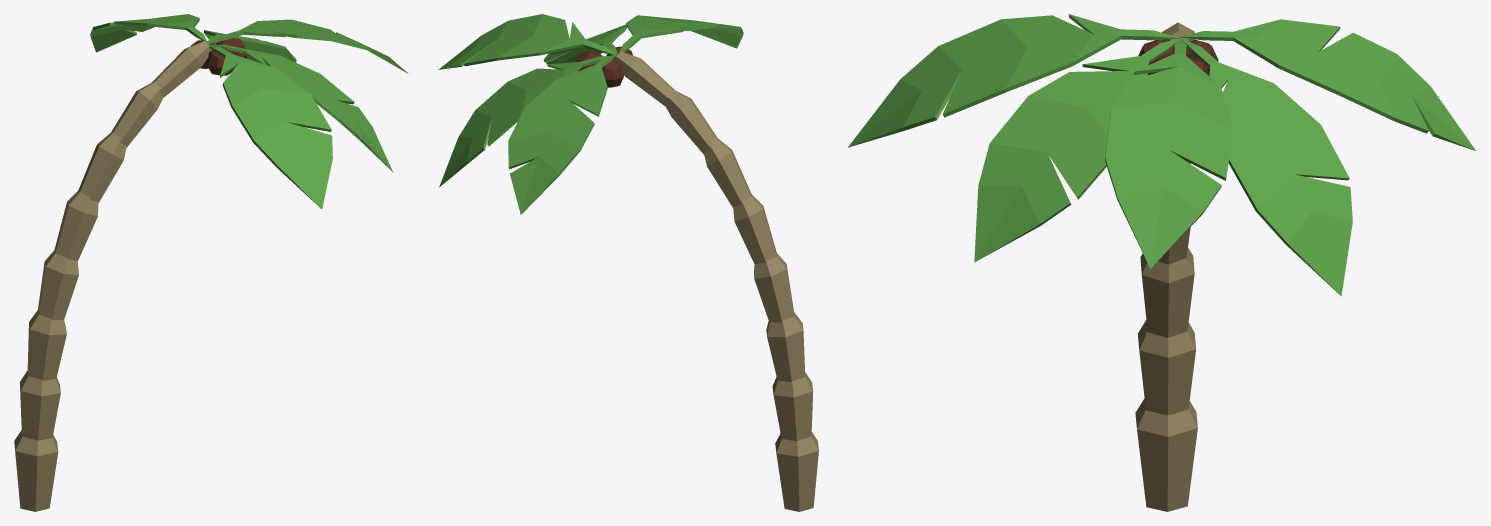
Rendered from Palm3.fbx.
3 views of the same model, side by side, from view 1: azimuth 30°, elevation 25°; view 2: azimuth 150°, elevation 25°; view 3: azimuth 270°, elevation 25° (orthographic). The views are drawn at different scales.
Parts seen in each view (by area): view 1: pCylinder11, pPlane1, pPlane3, pPlane4, pPlane2, pPlane5; view 2: pCylinder11, pPlane2, pPlane5, pPlane4, pPlane1, pPlane3, pPlatonic2; view 3: pPlane4, pPlane3, pPlane5, pPlane1, pCylinder11, pPlane2.
Boxes of the visible parts, x1,y1,x2,y2 form: pCylinder11: [14, 41, 211, 511]; pPlane1: [209, 45, 332, 209]; pPlane3: [209, 44, 393, 172]; pPlane4: [208, 19, 408, 73]; pPlane2: [90, 14, 208, 52]; pPlane5: [203, 30, 296, 62]; pCylinder11: [614, 51, 818, 511]; pPlane2: [508, 53, 617, 214]; pPlane5: [439, 56, 616, 187]; pPlane4: [438, 14, 617, 69]; pPlane1: [620, 15, 743, 51]; pPlane3: [543, 24, 626, 64]; pPlatonic2: [602, 59, 623, 87]; pPlane4: [1105, 38, 1233, 268]; pPlane3: [974, 38, 1180, 262]; pPlane5: [1181, 38, 1352, 296]; pPlane1: [848, 14, 1180, 147]; pCylinder11: [1135, 22, 1197, 511]; pPlane2: [1178, 19, 1475, 150].
Bounding box in the file's own units: 15.64 × 16.15 × 15.45.
